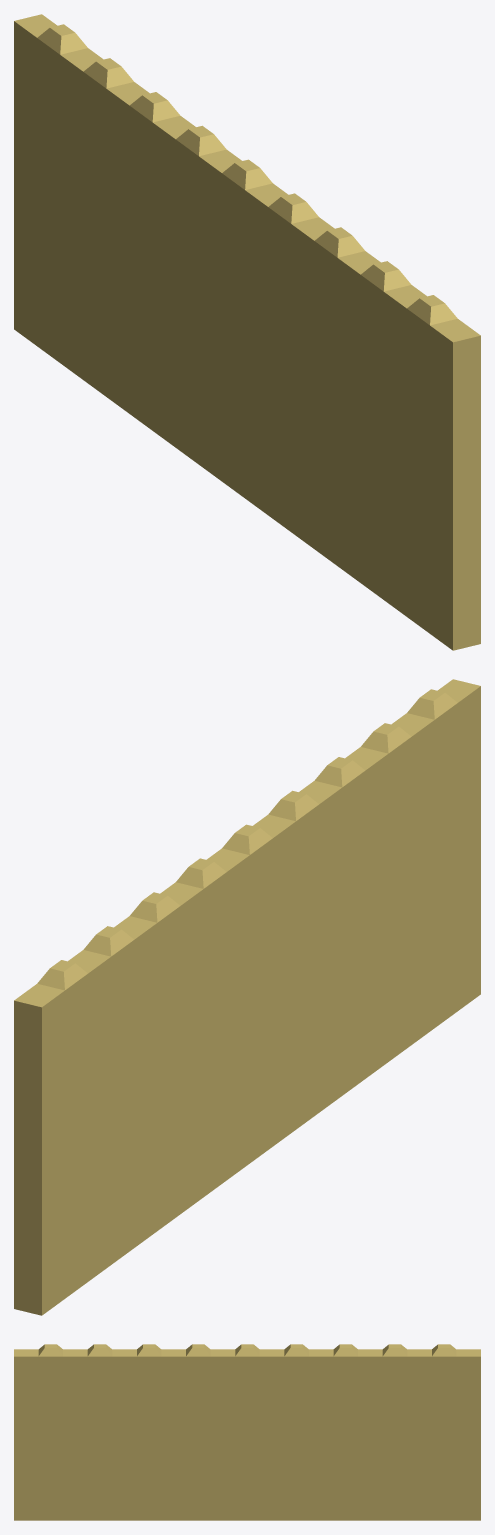
The model's file is wall.fbx.
3 renders of one model, top to bottom at view 1: azimuth 30°, elevation 25°; view 2: azimuth 150°, elevation 25°; view 3: azimuth 270°, elevation 25°, orthographic. The views are drawn at different scales.
Parts seen in each view (by area): view 1: Cube; view 2: Cube; view 3: Cube.
Part boxes in pixels (x1=…): Cube: x1=14, y1=14, x2=480, y2=650; Cube: x1=14, y1=679, x2=480, y2=1315; Cube: x1=14, y1=1344, x2=480, y2=1520.
Size of the model in its own units: 61.47 by 676 by 1675.
